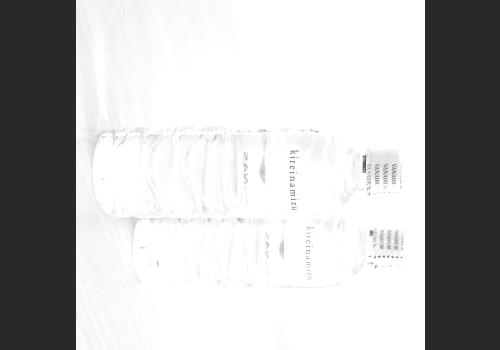bottle: (87, 116, 411, 229), (126, 200, 412, 296)
